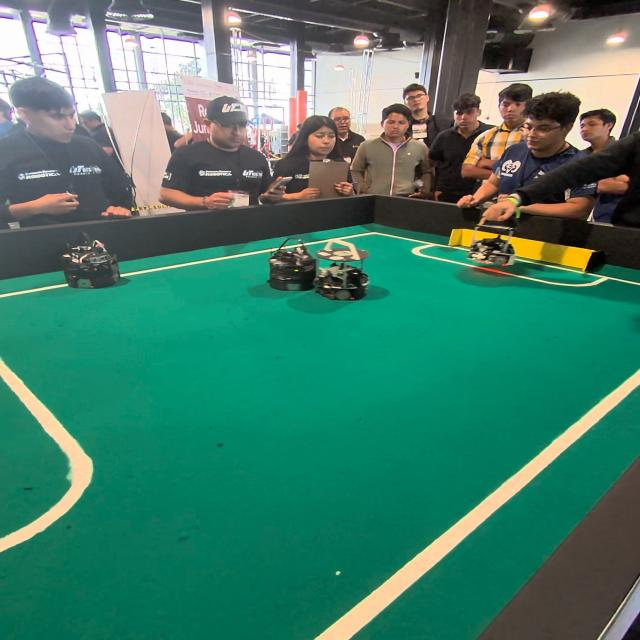Robot: (314, 239, 373, 308), (61, 231, 124, 291), (470, 202, 518, 265), (267, 238, 319, 295)
